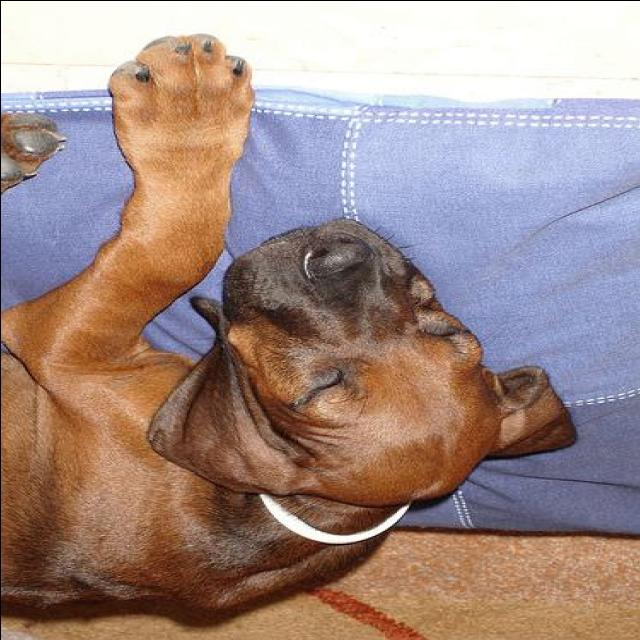rhodesian_ridgeback: (0, 31, 575, 626)
